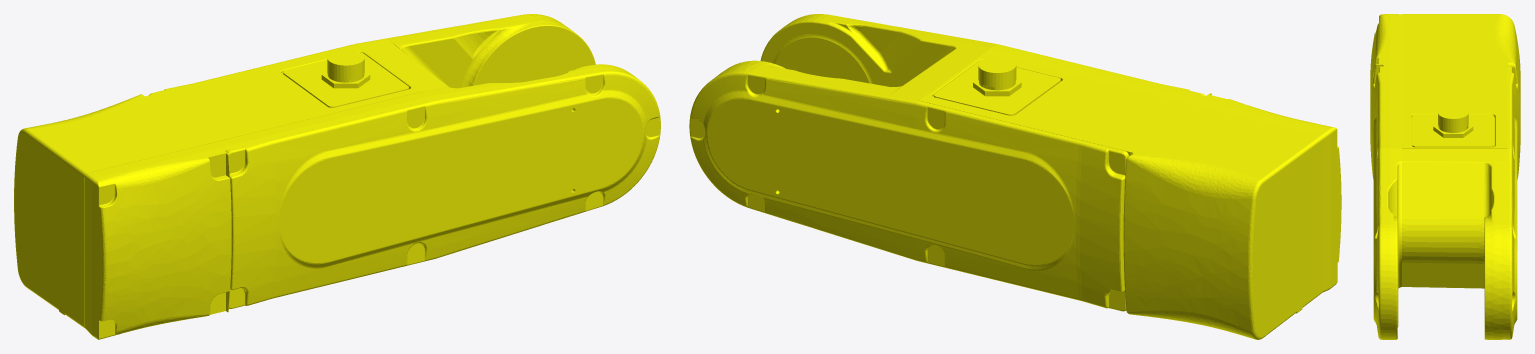
3 renders of one model, left to right at view 1: azimuth 30°, elevation 25°; view 2: azimuth 150°, elevation 25°; view 3: azimuth 270°, elevation 25°, orthographic. The views are drawn at different scales.
Visible parts, largest first — view 1: node0; view 2: node0; view 3: node0.
Part boxes in pixels (box(x1,y1,x2,y2)): node0: box(14, 14, 660, 339); node0: box(689, 14, 1341, 339); node0: box(1370, 14, 1520, 339).
Bounding box in the file's own units: 0.3727 × 0.1047 × 0.1139.
